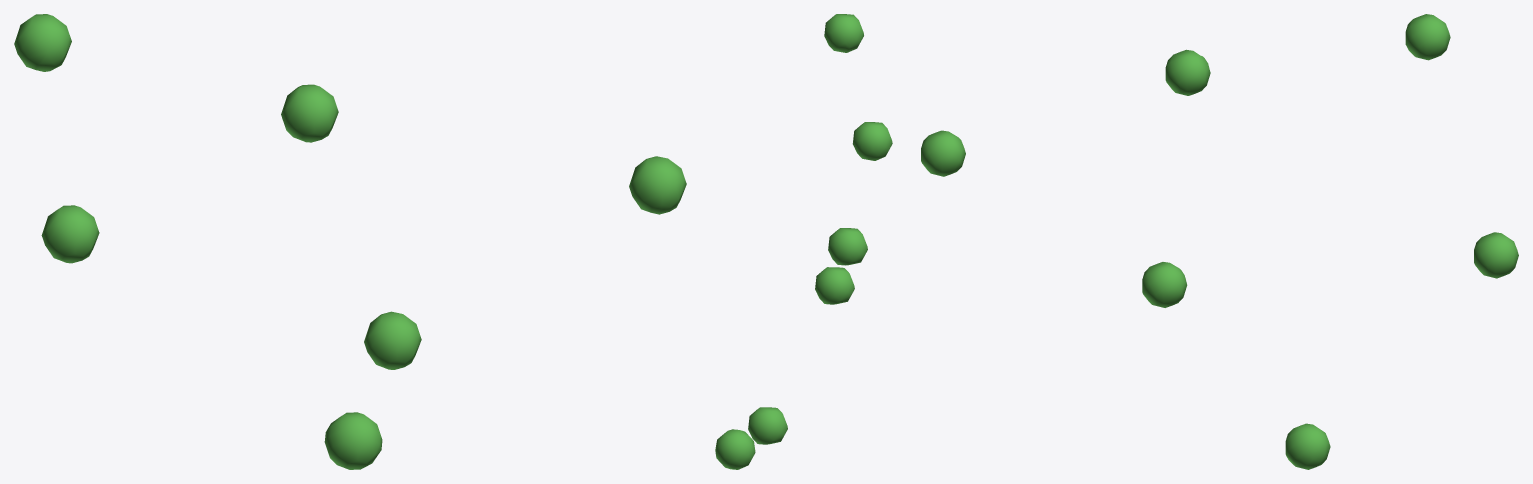
The model's file is linfatico-lateral-vesical-nodes-r.glb.
3 views of the same model, side by side, from view 1: azimuth 30°, elevation 25°; view 2: azimuth 150°, elevation 25°; view 3: azimuth 270°, elevation 25° (orthographic). The views are drawn at different scales.
Visible parts, largest first — view 1: Lateral vesical nodes.r; view 2: Lateral vesical nodes.r; view 3: Lateral vesical nodes.r.
Part boxes in pixels (x1,y1,x2,y2): Lateral vesical nodes.r: [14, 14, 686, 469]; Lateral vesical nodes.r: [715, 14, 892, 469]; Lateral vesical nodes.r: [921, 14, 1518, 469].
Size of the model in its own units: 0.0184 by 0.0227 by 0.0334.
